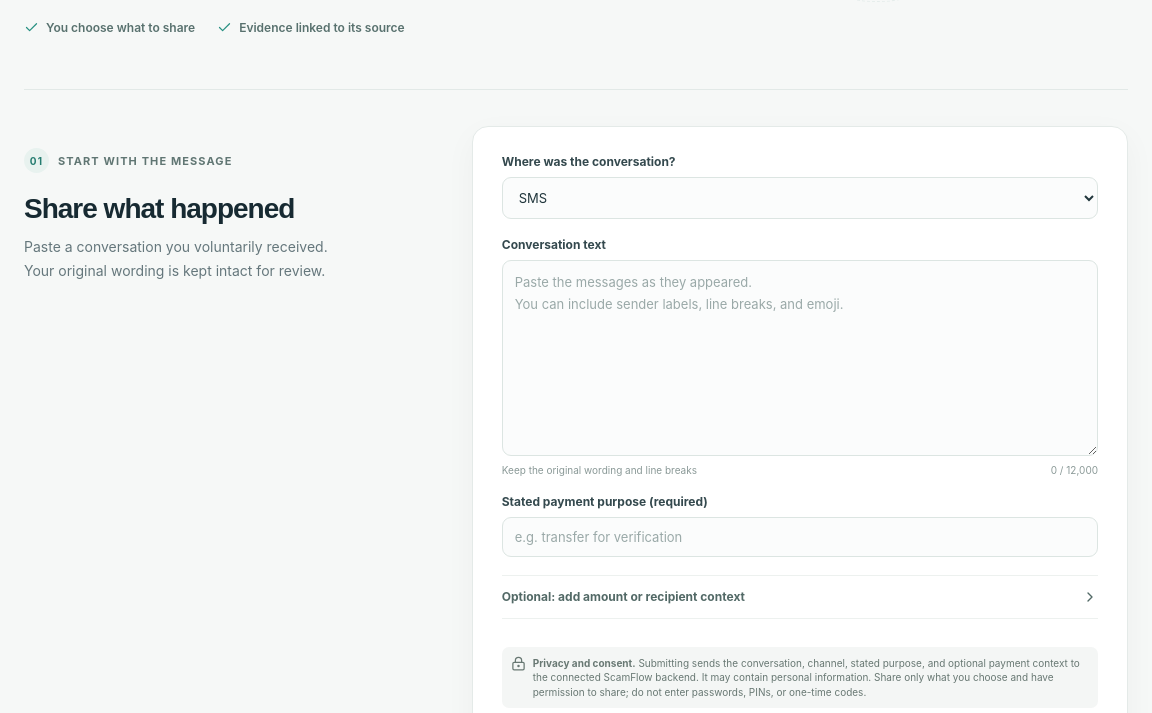
Scenario: ScamFlow journey › recovers from revision conflict by reloading latest case
(page scrolled)
Type "Sender: please send your OTP 🔐 now." into the text box labelled "Conversation text" at (800, 358), box [502, 260, 1098, 456]
Click the heading "Optional: add amount or recipient context" at (623, 597), box [502, 589, 1098, 605]
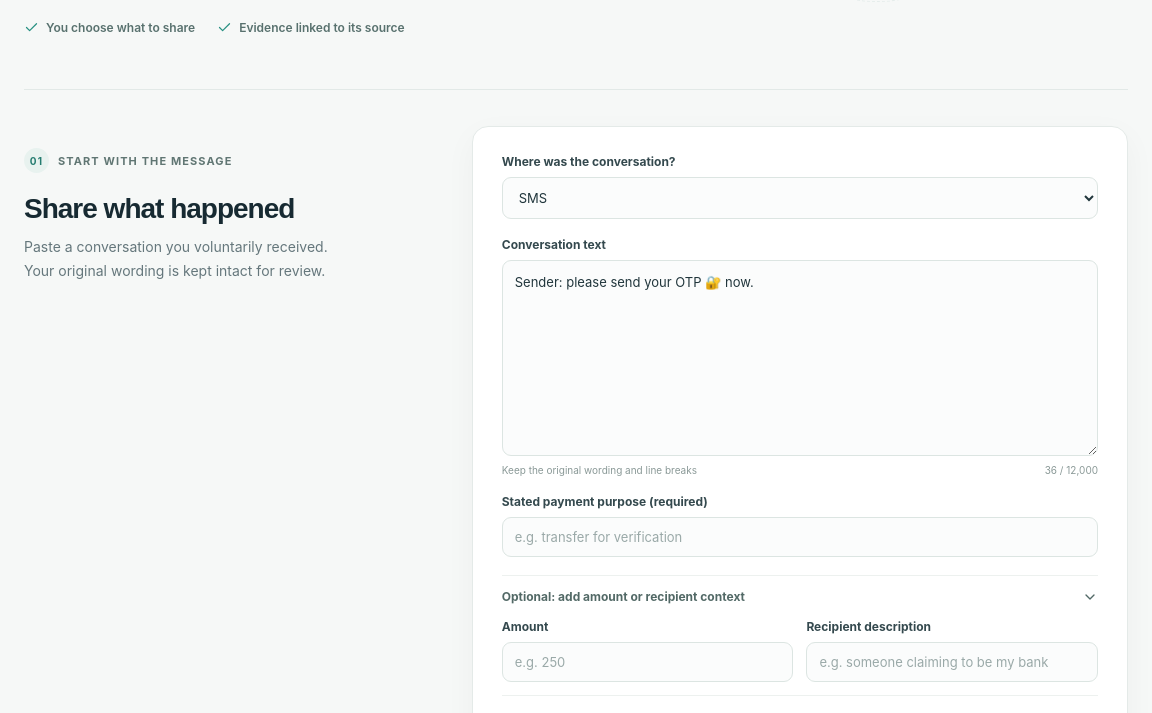
Type "Account verification" into the field labelled "Stated payment purpose (required)" at (800, 537), box [502, 517, 1098, 557]
(page scrolled)
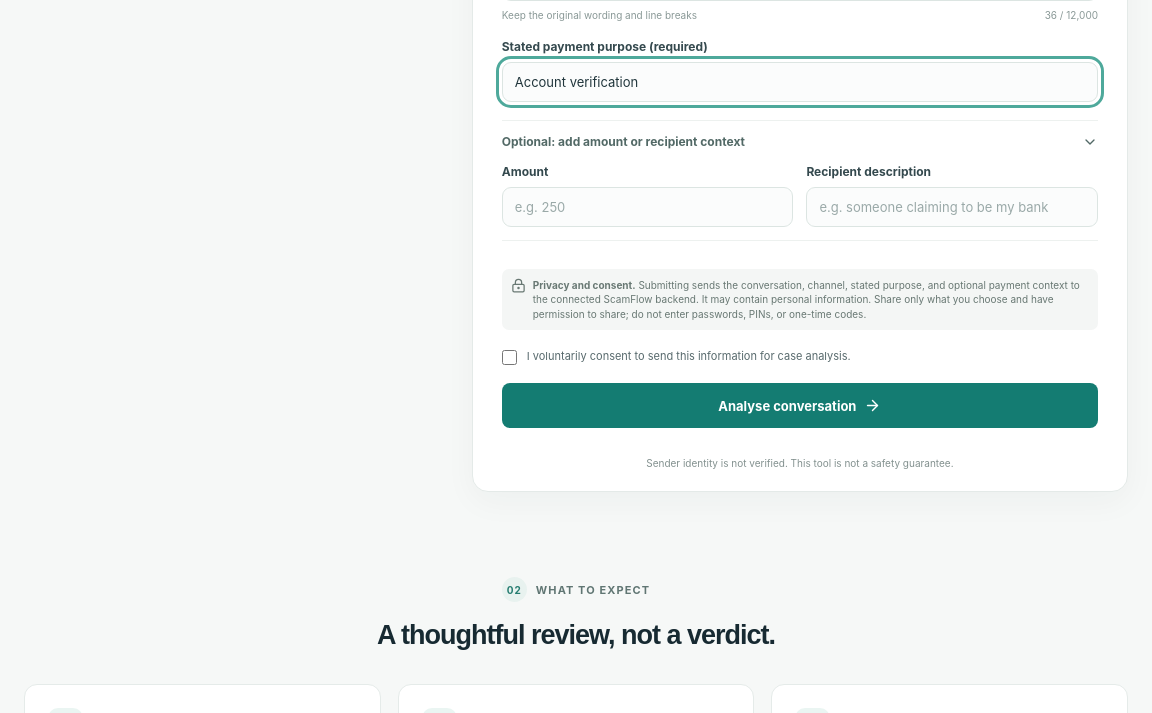
Click the checkbox at (509, 358), box [502, 350, 517, 365]
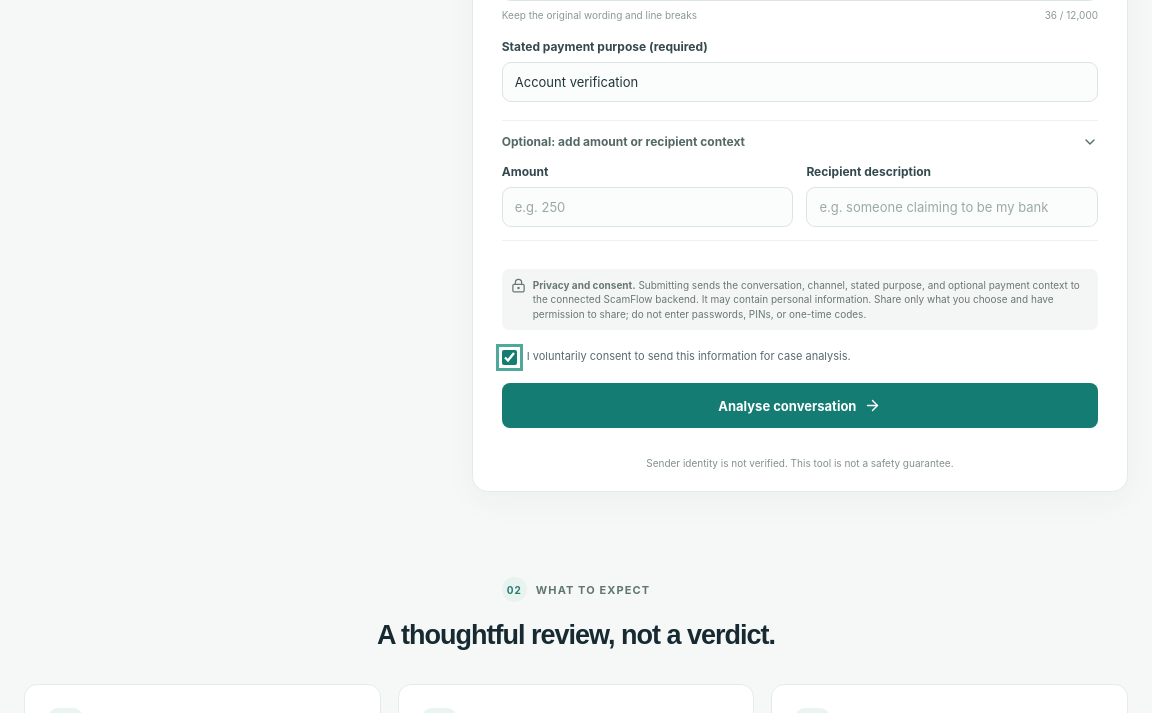
Click the button "Analyse conversation" at (800, 406), box [502, 383, 1098, 428]
(page scrolled)
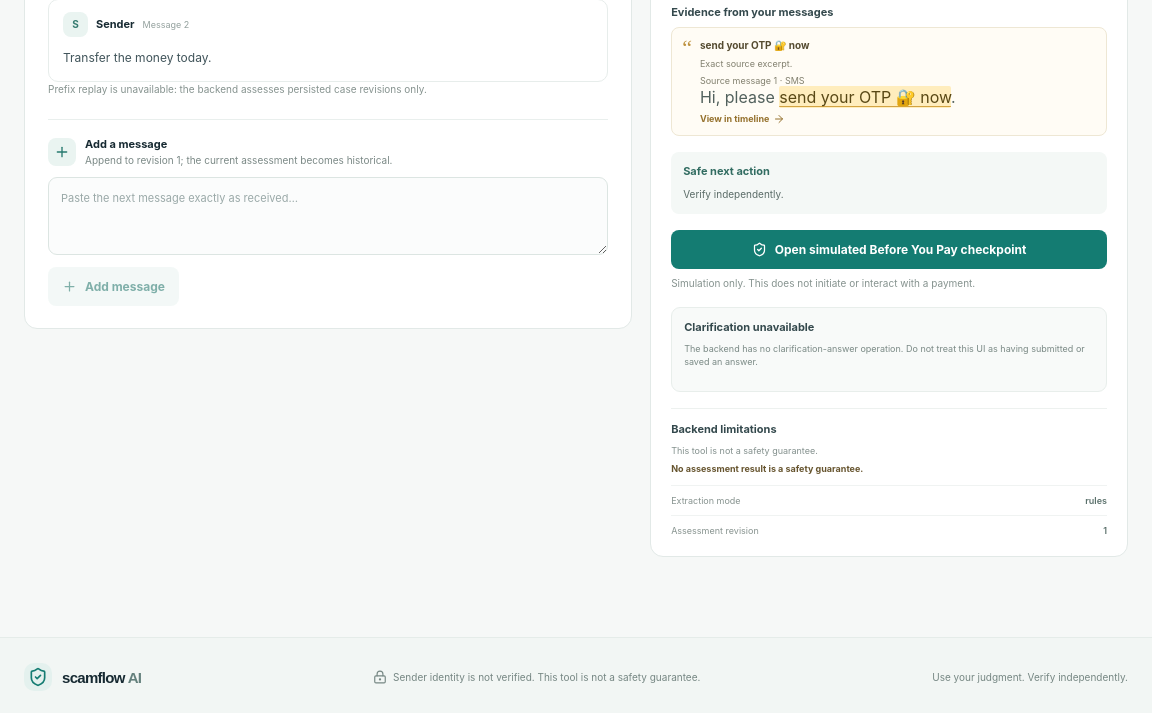
Type "Another message" into the text box named "new message text" at (328, 216), box [48, 177, 608, 255]
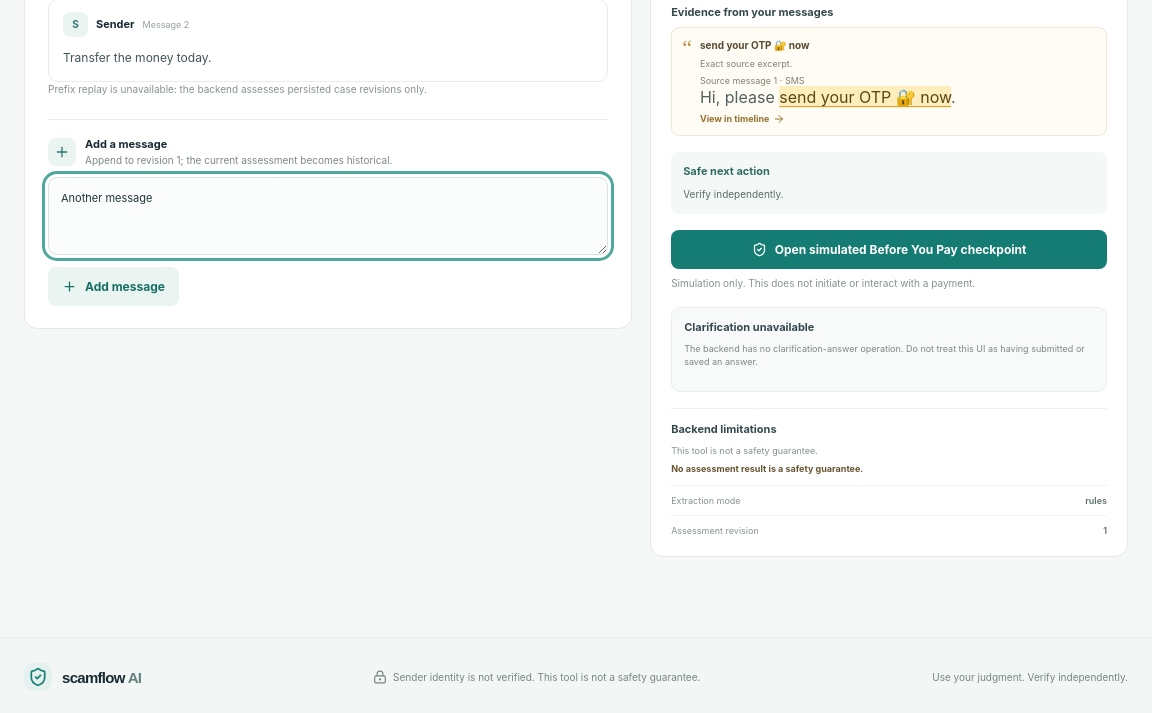
Click the button "Add message" at (113, 287), box [48, 267, 179, 306]
(page scrolled)
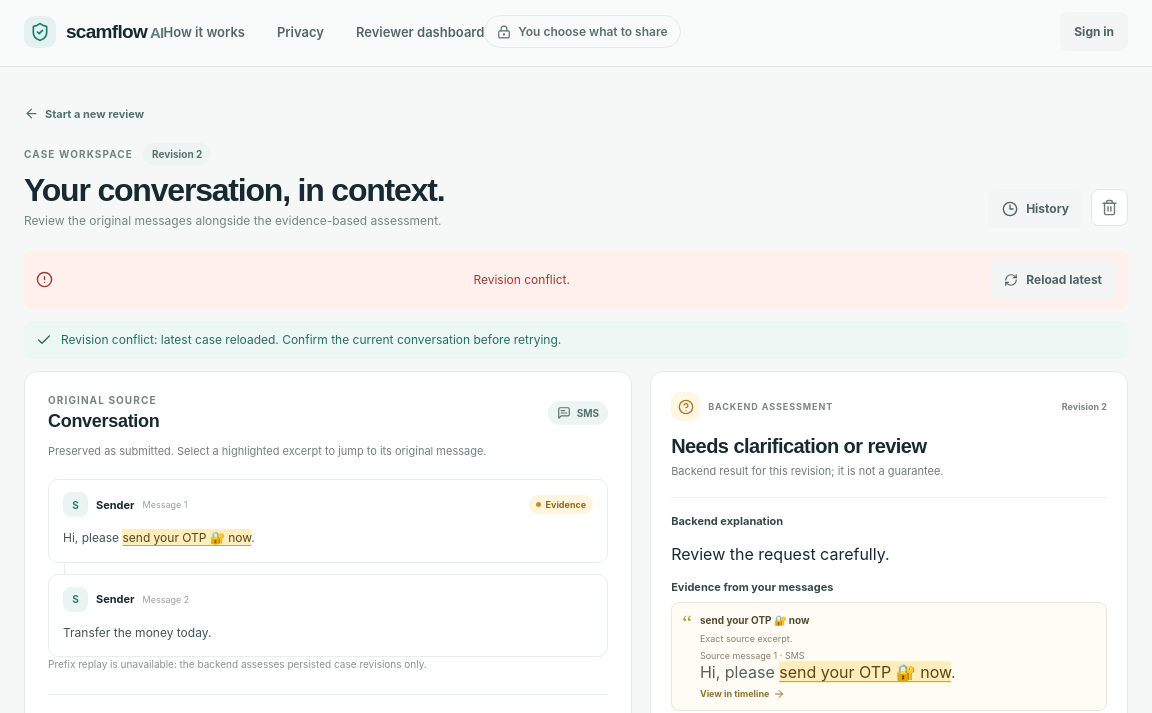
Check: the 2nd message shows "Revision conflict", box [61, 332, 561, 347]
Check: the text "Revision 2" next to "CASE WORKSPACE" is shown, box [143, 143, 211, 165]
